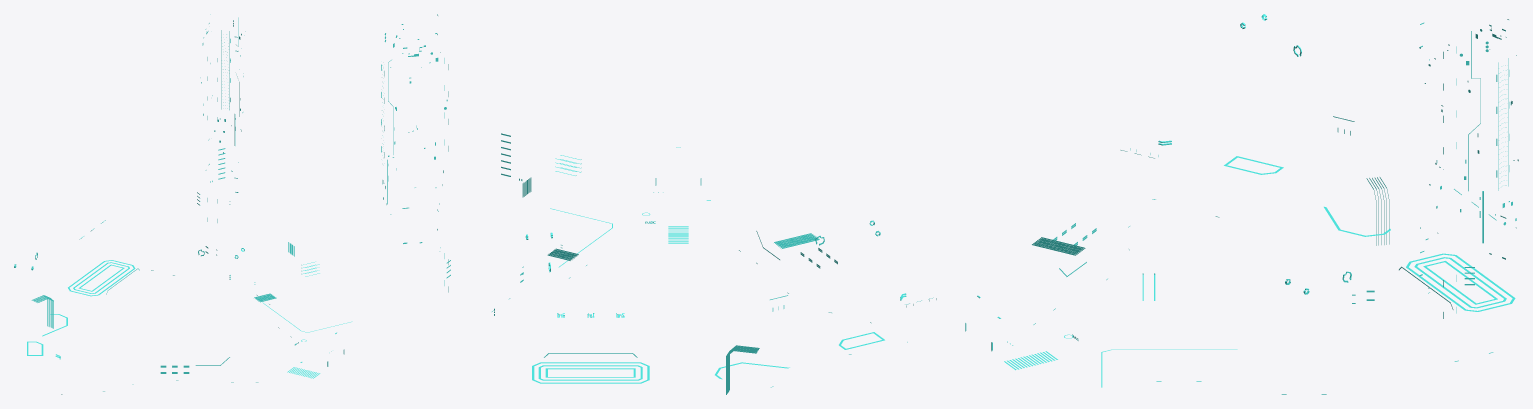
The model's file is XNF_02_UV1.fbx.
3 renders of one model, left to right at view 1: azimuth 30°, elevation 25°; view 2: azimuth 150°, elevation 25°; view 3: azimuth 270°, elevation 25°, orthographic. The views are drawn at different scales.
Parts seen in each view (by area): view 1: XNR_02_UV1; view 2: XNR_02_UV1; view 3: XNR_02_UV1.
Boxes of the visible parts, box(x1,y1,x2,y2) form: XNR_02_UV1: box(14, 14, 352, 394); XNR_02_UV1: box(381, 14, 936, 394); XNR_02_UV1: box(965, 14, 1518, 394).
Size of the model in its own units: 101 by 79.99 by 104.
25 materials, 25 textured.
